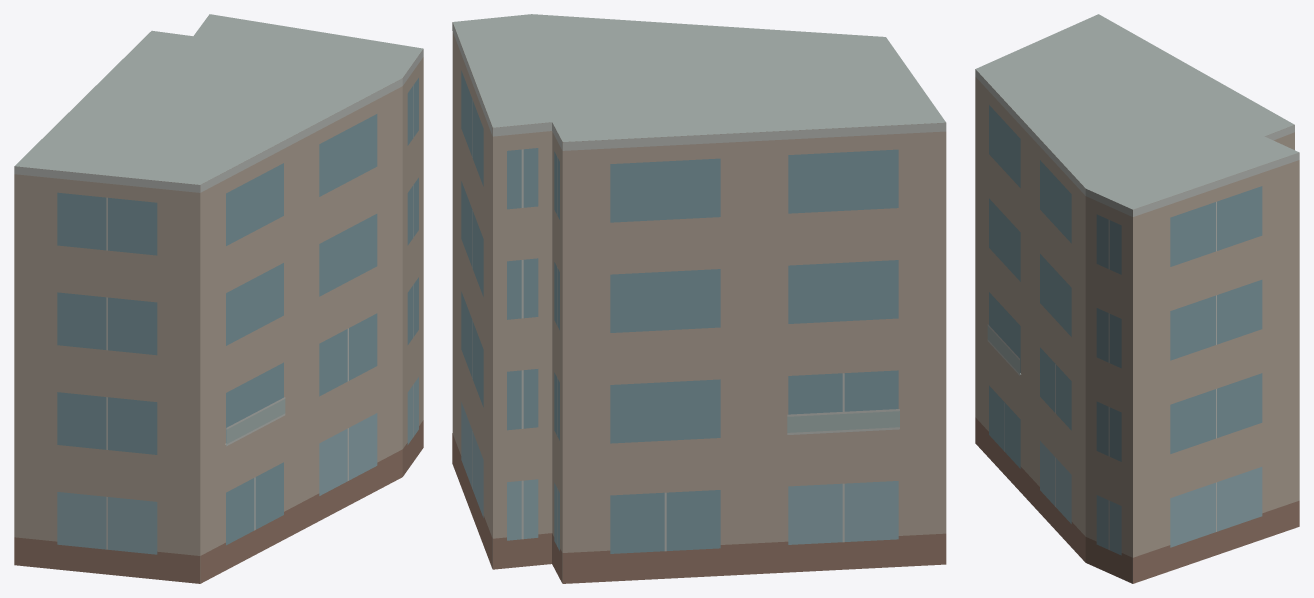
The model's file is survey-upis-33009544.glb.
The picture shows the model from 3 angles, left to right: view 1: azimuth 30°, elevation 25°; view 2: azimuth 150°, elevation 25°; view 3: azimuth 270°, elevation 25°; orthographic projection. The views are drawn at different scales.
Parts seen in each view (by area): view 1: survey-upis-33009544.tmp; view 2: survey-upis-33009544.tmp; view 3: survey-upis-33009544.tmp.
Boxes of the visible parts, left/top/right/bottom form: survey-upis-33009544.tmp: left=14, top=14, right=423, bottom=583; survey-upis-33009544.tmp: left=452, top=14, right=946, bottom=583; survey-upis-33009544.tmp: left=975, top=14, right=1299, bottom=583.
Size of the model in its own units: 13.69 by 12.2 by 9.59.
